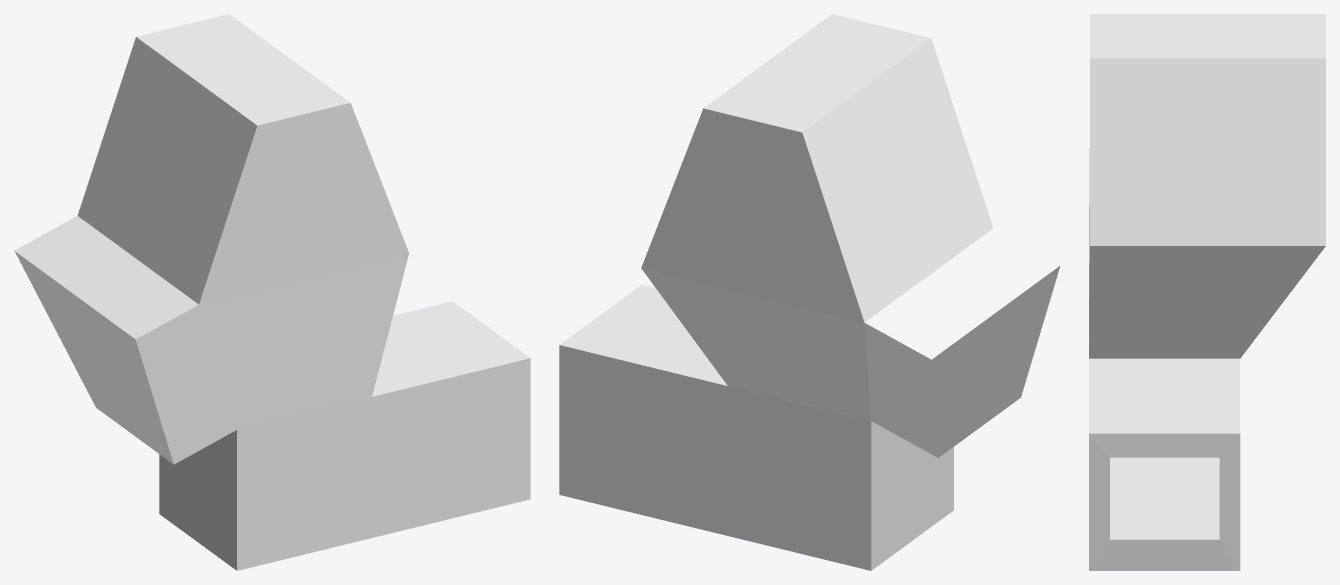
The model's file is tunnels_0000_dec.obj.
The picture shows the model from 3 angles, left to right: view 1: azimuth 30°, elevation 25°; view 2: azimuth 150°, elevation 25°; view 3: azimuth 270°, elevation 25°; orthographic projection. The views are drawn at different scales.
Visible parts, largest first — view 1: Cube.019_Cube.023; view 2: Cube.019_Cube.023; view 3: Cube.019_Cube.023.
Part boxes in pixels (bbox=[...]): Cube.019_Cube.023: bbox=[14, 14, 530, 570]; Cube.019_Cube.023: bbox=[559, 14, 1060, 570]; Cube.019_Cube.023: bbox=[1089, 14, 1325, 570].
Bounding box in the file's own units: 351 × 374 × 188.
